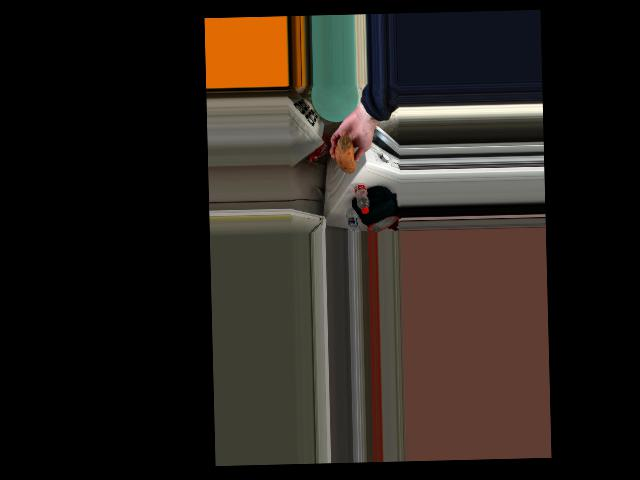sweet_potato: (337, 129, 358, 176)
